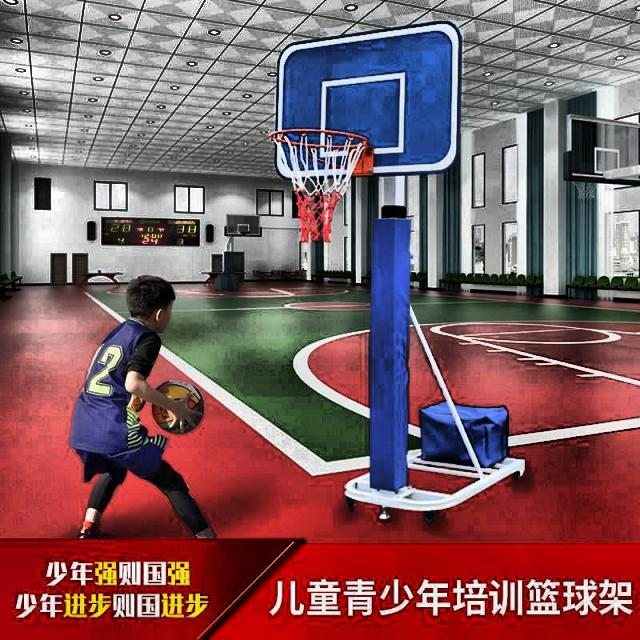rim: (272, 128, 370, 245)
